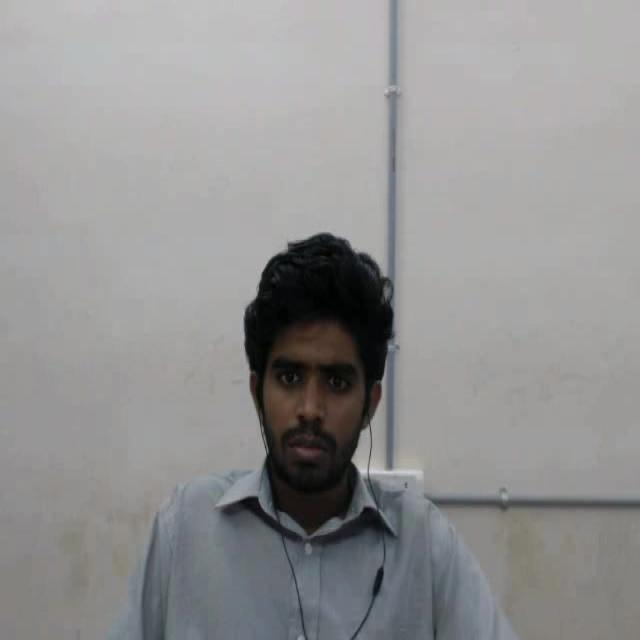Engaged: (228, 212, 404, 534)
